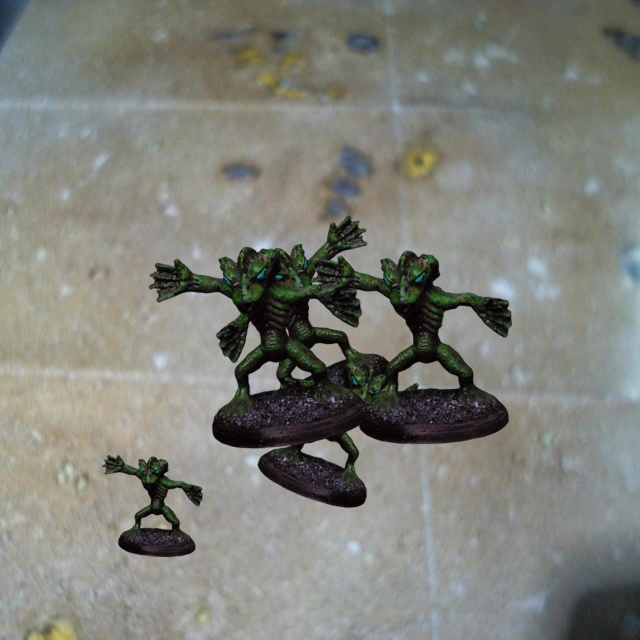pieza_juego: (149, 247, 367, 448), (216, 215, 393, 435), (311, 251, 511, 443), (258, 362, 433, 507), (102, 455, 202, 556)
